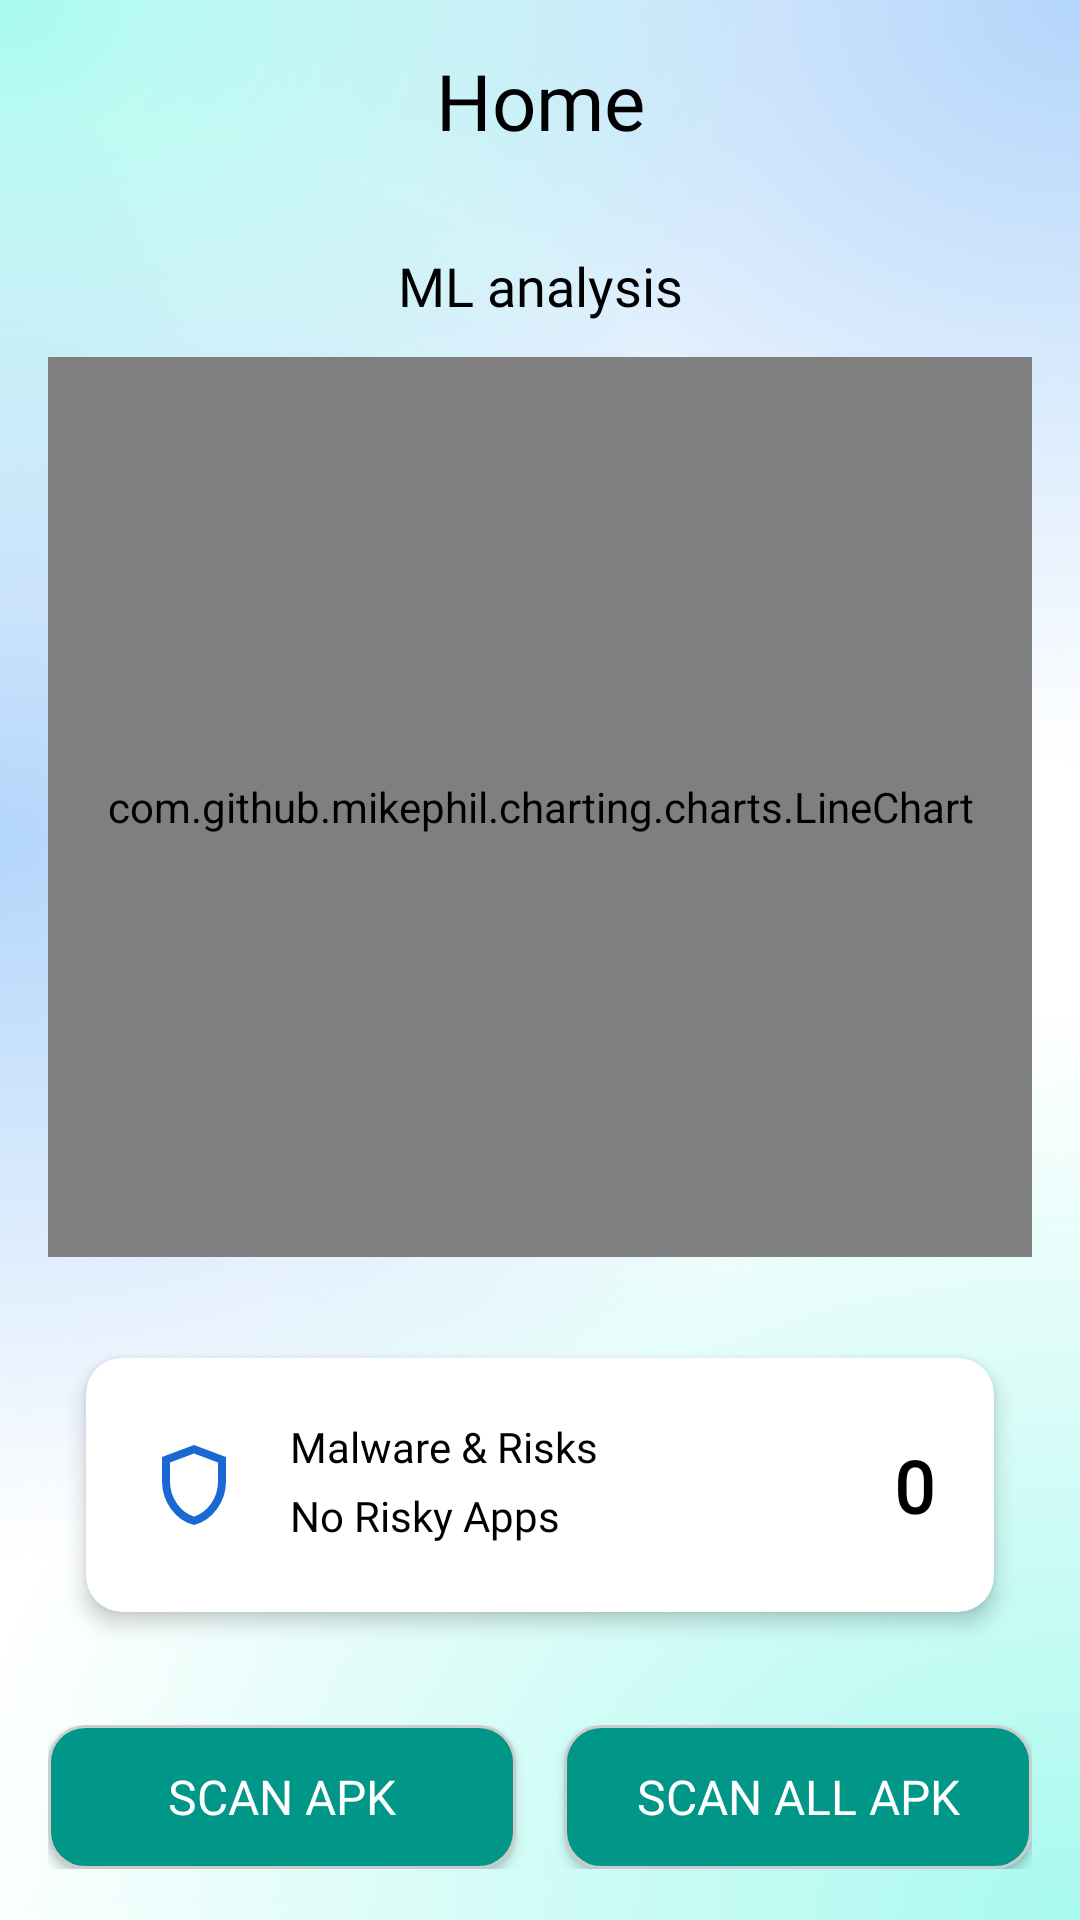

Icons on this 1080*1920 Android screen, each with the point to tap as [x,y]:
shield: [194,1485]
